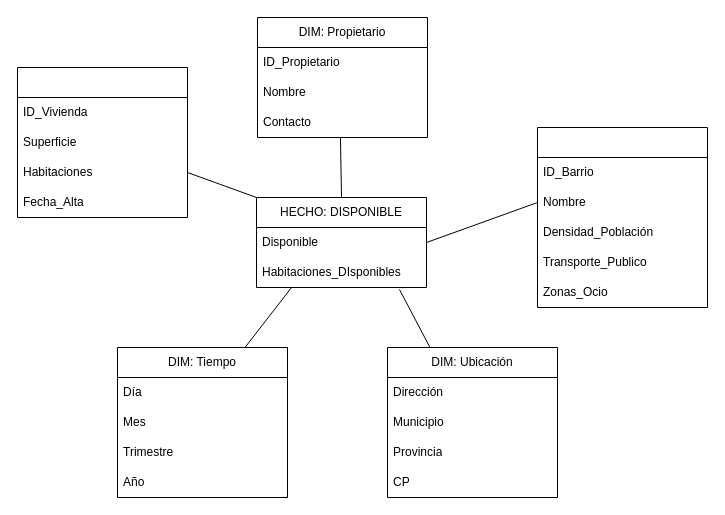
Some shapes in this 725 by 515 pixel diagram are drawn without their labels. Here are the shapes that lost their labels. From the top down, the box of each, then its label:
(16, 66, 188, 218): DIM: Vivienda turística
(536, 126, 708, 308): DIM: Barrio
